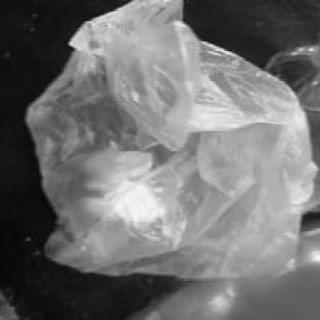objects: (19, 14, 300, 287)
